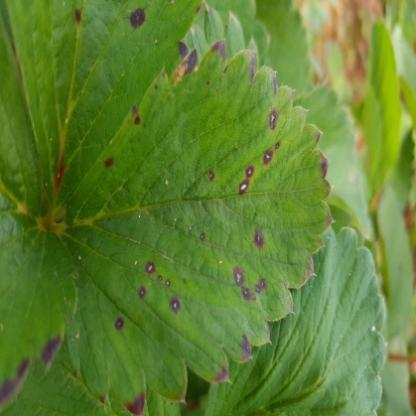Strawberry_Leaf_Spot: (54, 39, 335, 415), (4, 0, 203, 218)
